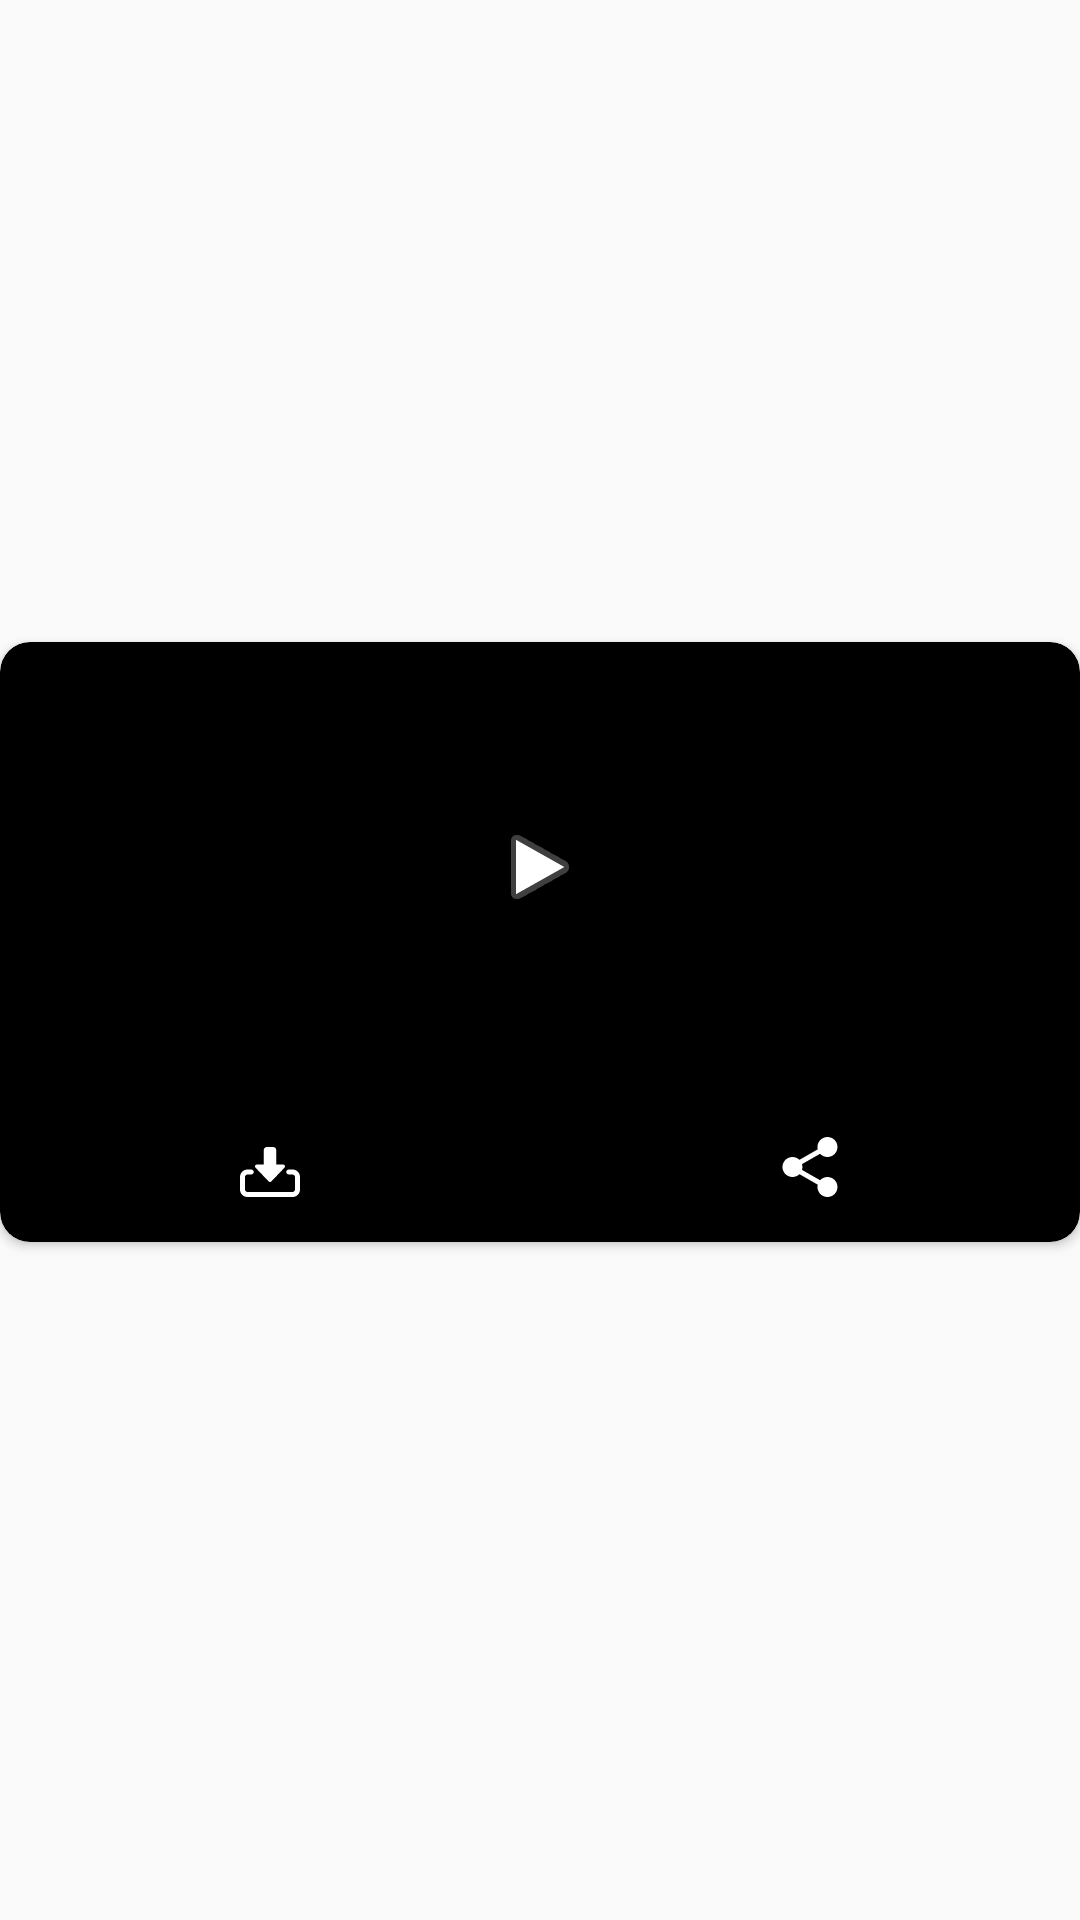

Screen size 1080×1920. Icon name, then its box in pixels as (x1,y1,x2,y2):
download: (240,1147,300,1197)
play: (511,835,569,899)
share: (782,1137,838,1197)
